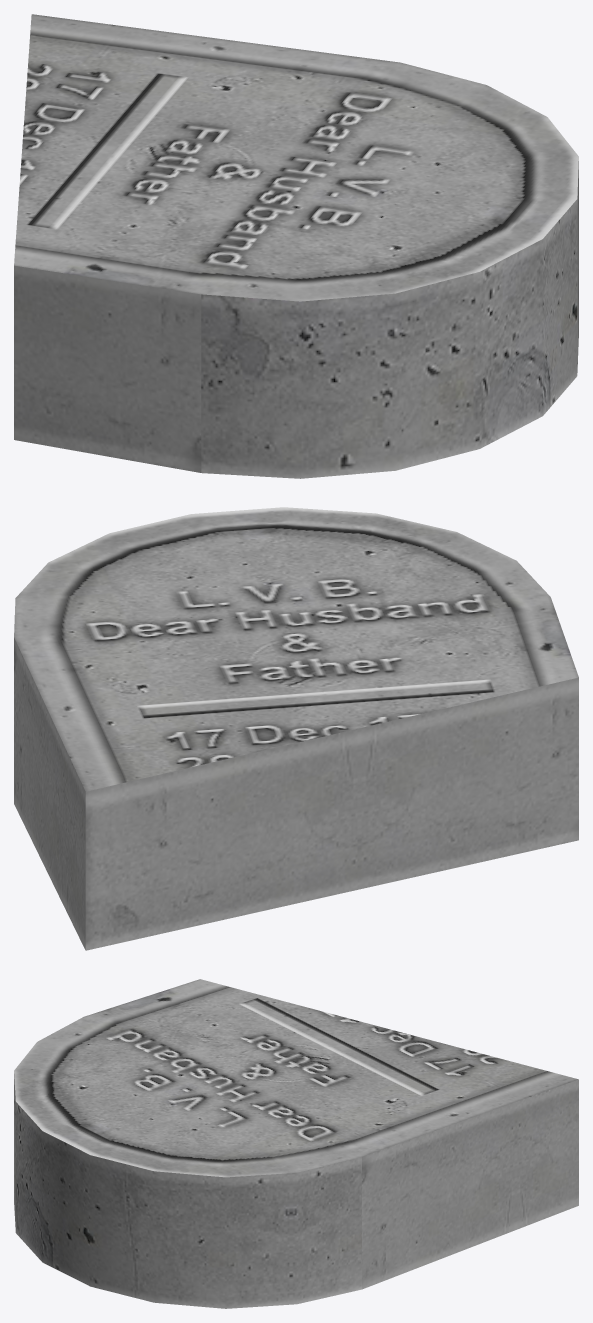
File: grave1_brk2.FBX
3 views of the same model, one above another, from view 1: azimuth 30°, elevation 25°; view 2: azimuth 150°, elevation 25°; view 3: azimuth 270°, elevation 25° (orthographic). The views are drawn at different scales.
Parts seen in each view (by area): view 1: grave1_brk2; view 2: grave1_brk2; view 3: grave1_brk2.
Boxes of the visible parts, x1=… form: grave1_brk2: x1=14, y1=14, x2=578, y2=478; grave1_brk2: x1=14, y1=507, x2=578, y2=950; grave1_brk2: x1=14, y1=979, x2=578, y2=1308.
Bounding box in the file's own units: 32.89 × 10.2 × 39.38.
